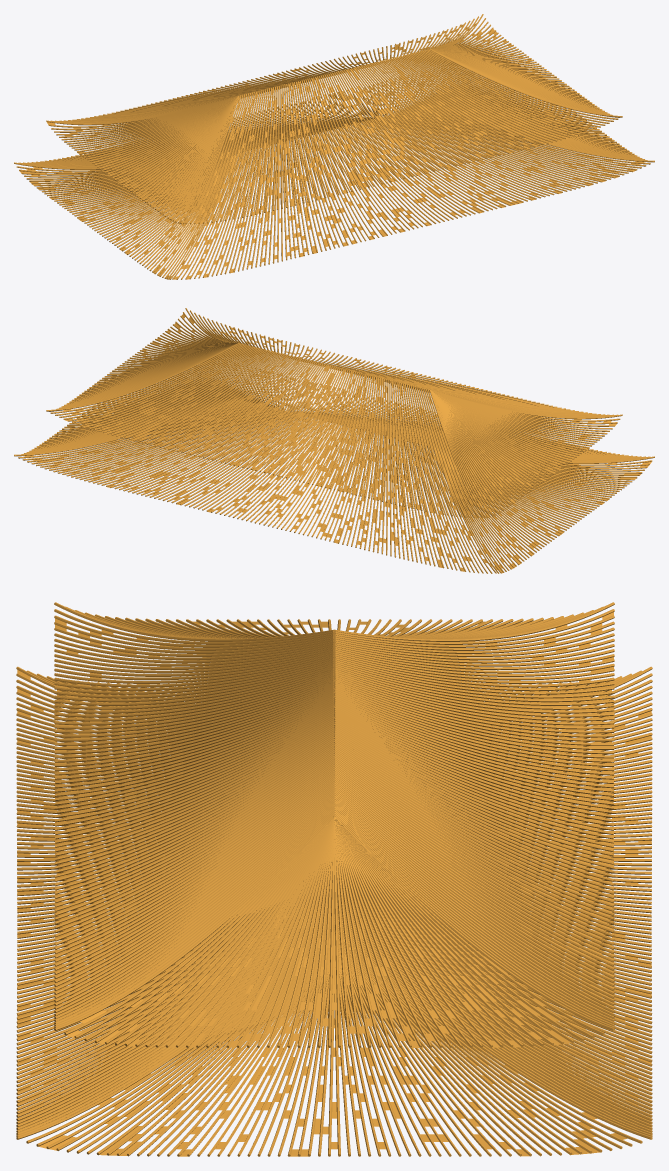
The model's file is SM_11_tile4.fbx.
3 views of the same model, one above another, from view 1: azimuth 30°, elevation 25°; view 2: azimuth 150°, elevation 25°; view 3: azimuth 270°, elevation 25° (orthographic). The views are drawn at different scales.
Visible parts, largest first — view 1: tile4; view 2: tile4; view 3: tile4.
Boxes of the visible parts, x1,y1,x2,y2 form: tile4: (14, 14, 654, 279); tile4: (14, 308, 654, 573); tile4: (16, 602, 652, 1156).
Size of the model in its own units: 5310 by 3030 by 1042.
